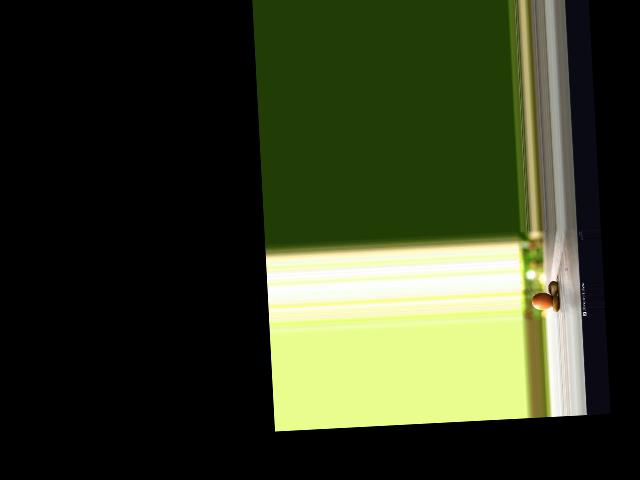egg: (531, 291, 553, 310)
